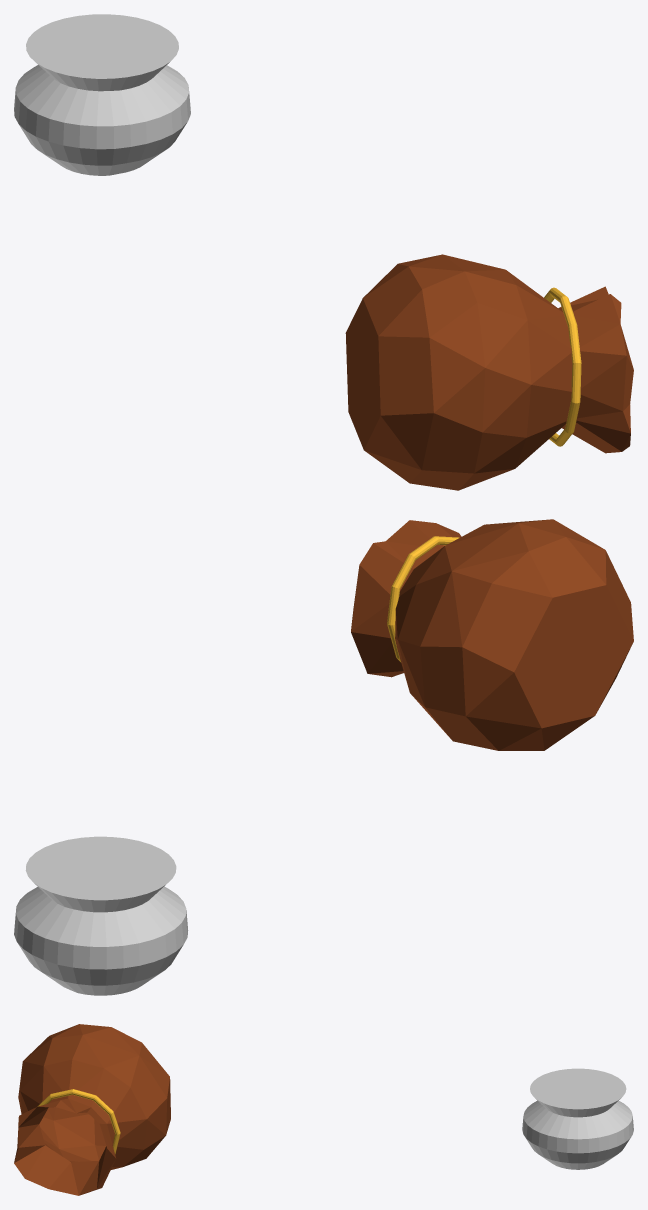
The model's file is presentsBox.obj.
3 renders of one model, top to bottom at view 1: azimuth 30°, elevation 25°; view 2: azimuth 150°, elevation 25°; view 3: azimuth 270°, elevation 25°, orthographic. The views are drawn at different scales.
Parts seen in each view (by area): view 1: Sack, Cylinder, Torus; view 2: Sack, Cylinder, Torus; view 3: Sack, Cylinder, Torus.
Boxes of the visible parts, x1=… form: Sack: x1=345, y1=254, x2=633, y2=490; Cylinder: x1=14, y1=14, x2=190, y2=175; Torus: x1=544, y1=287, x2=581, y2=446; Sack: x1=351, y1=519, x2=633, y2=750; Cylinder: x1=14, y1=836, x2=188, y2=995; Torus: x1=387, y1=536, x2=459, y2=661; Sack: x1=14, y1=1024, x2=170, y2=1195; Cylinder: x1=522, y1=1068, x2=633, y2=1169; Torus: x1=37, y1=1089, x2=120, y2=1154.
Size of the model in its own units: 4.74 by 3.88 by 16.22.
Materials: 2 (2 with a texture image).
